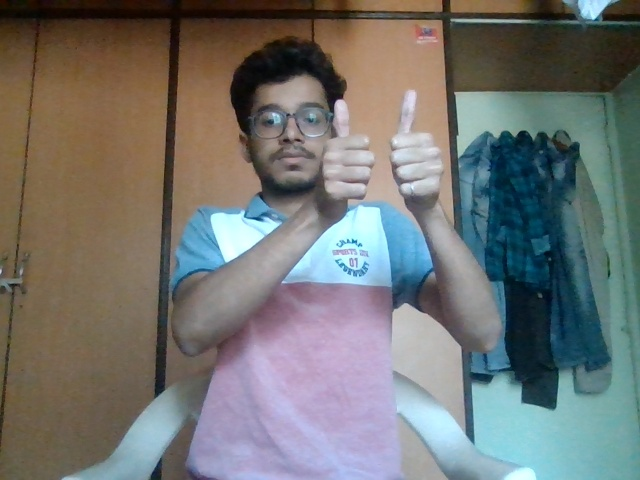thank-you: (314, 88, 457, 226)
